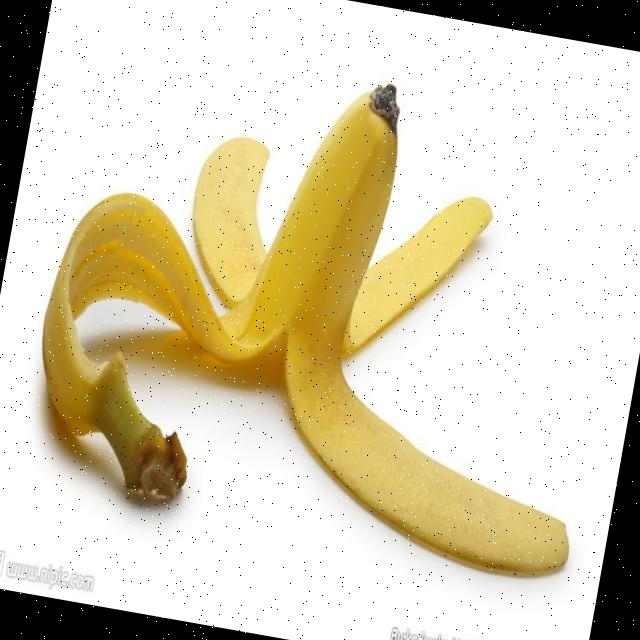banana-peel: (12, 29, 640, 585), (250, 165, 628, 585)
